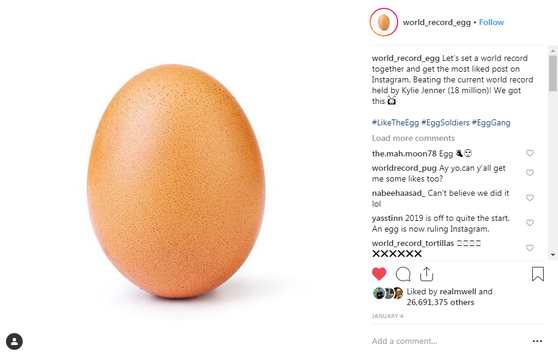egg: (89, 62, 272, 303)
